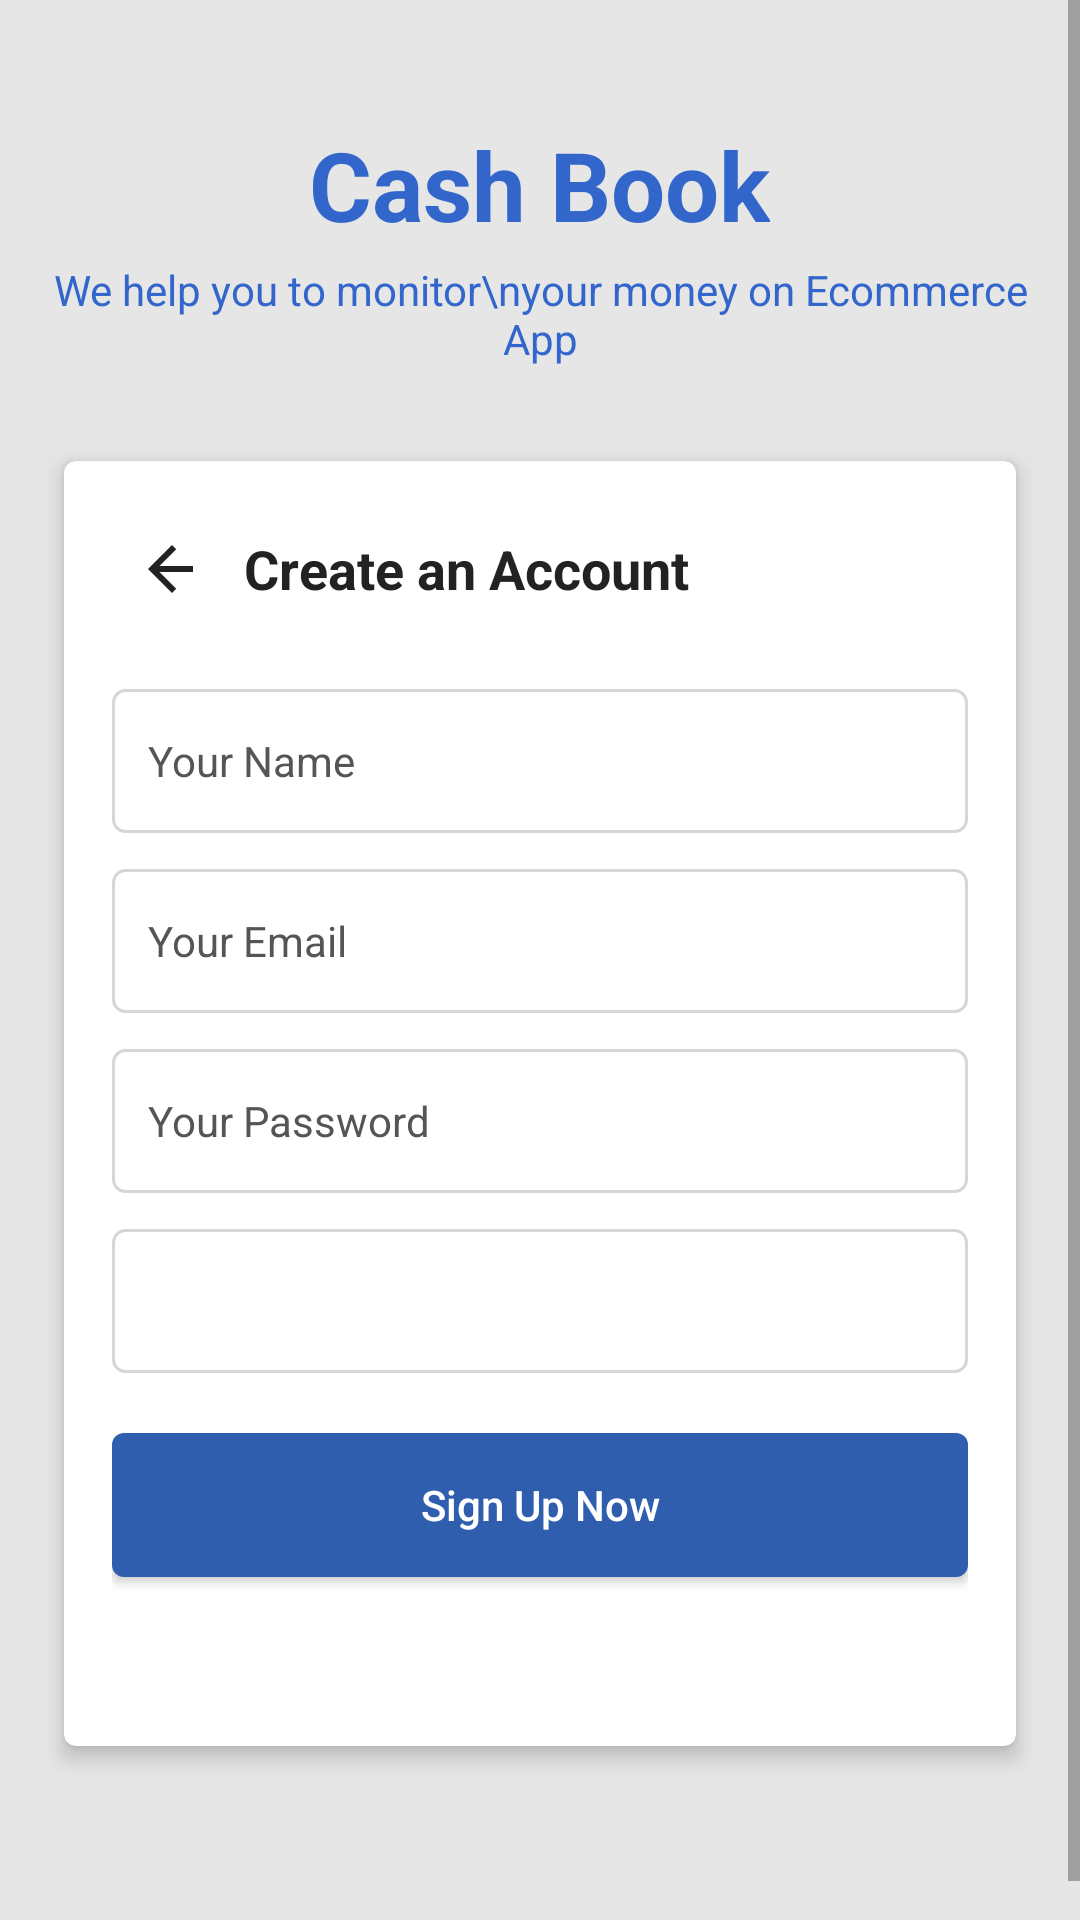

Named icons in this screenshot (1080×1920) and their bounding boxes, (x1, y1, x2, y2):
Back: (148, 545, 193, 593)
